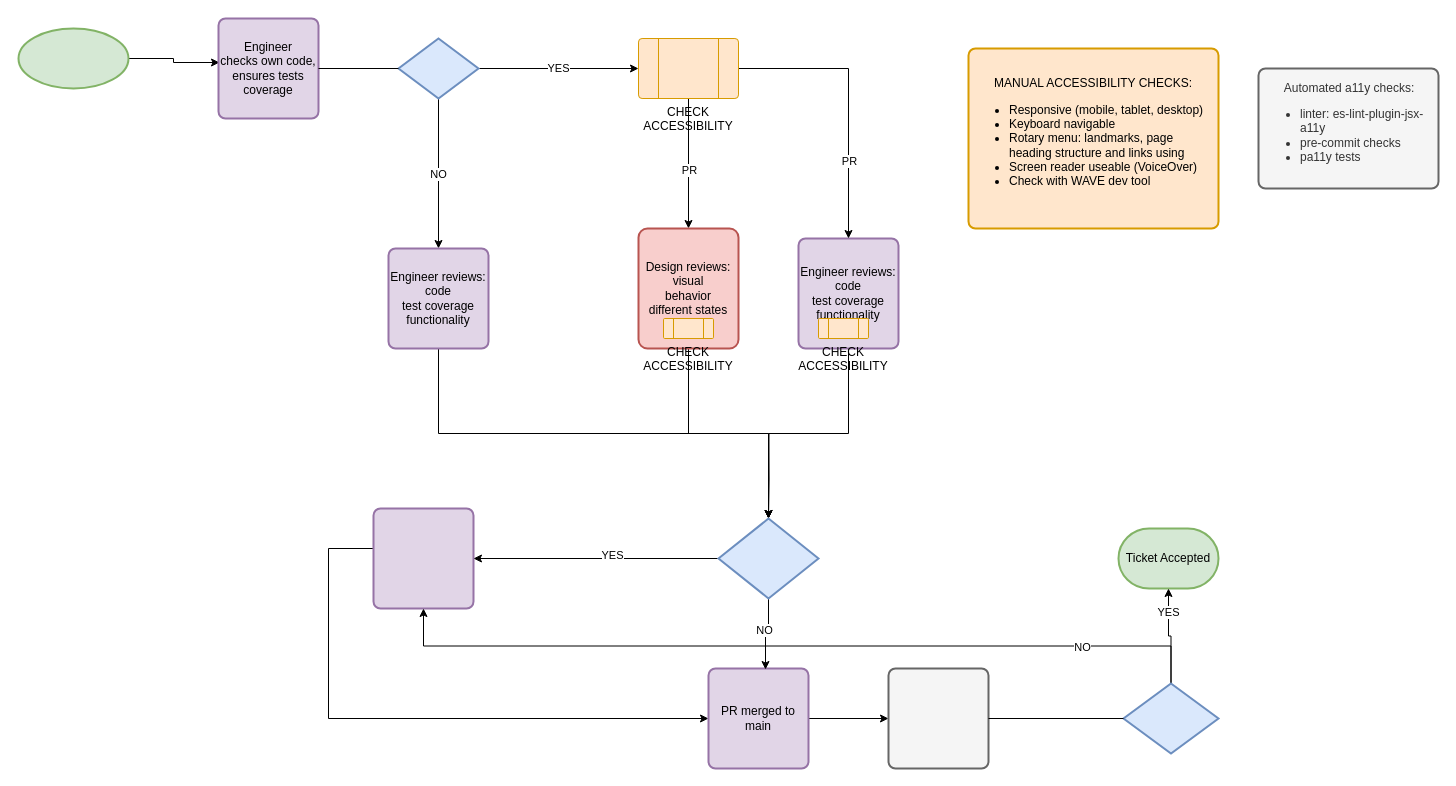
This 1456x786 diagram has some shape labels left out. Each missing label, with the centre of its shape:
"ACCEPTED?" belongs at (1170,718).
"Changes applied and re-reviewed" belongs at (423,558).
"CHANGES REQUESTED?" belongs at (768,558).
"Engineer starts a ticket" belongs at (73,58).
"Includes UI?" belongs at (438,68).
"Product reviews in dev env for AC" belongs at (938,718).
